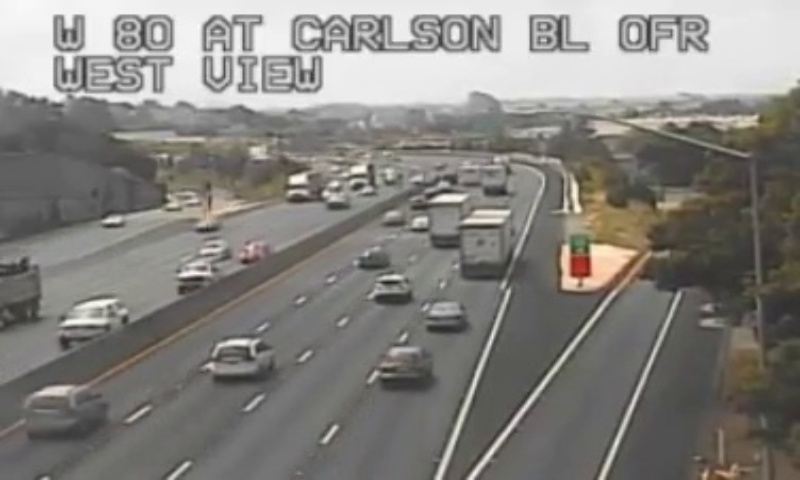car: (23, 384, 106, 434), (210, 339, 274, 377), (379, 347, 430, 383), (426, 301, 464, 330), (373, 274, 409, 299)
truck: (459, 209, 512, 277), (427, 193, 470, 245)
